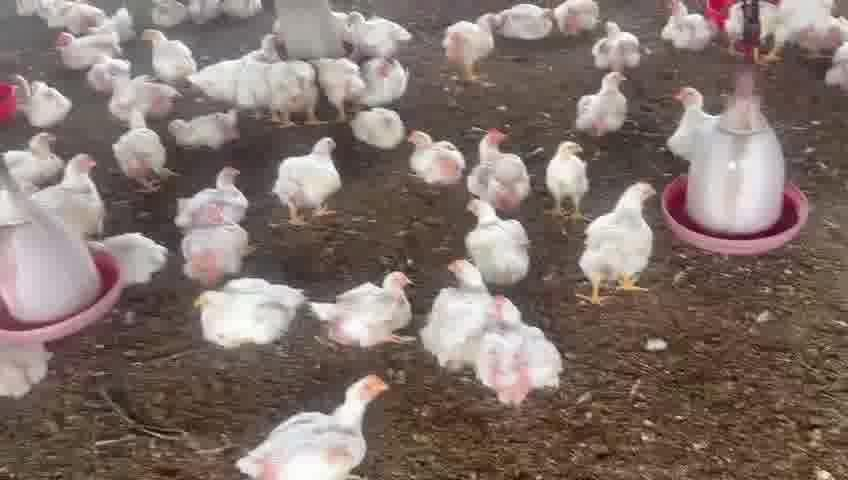AbNormal: (166, 105, 243, 147)
Normal: (233, 375, 386, 480), (466, 295, 561, 426), (582, 186, 678, 303), (308, 259, 420, 358), (404, 251, 491, 374), (188, 272, 306, 360), (461, 200, 535, 295), (270, 135, 344, 226), (179, 204, 253, 283), (166, 160, 245, 222), (540, 140, 595, 228), (112, 109, 175, 185), (570, 73, 635, 145), (264, 58, 325, 128), (589, 16, 648, 81), (445, 13, 500, 80), (406, 130, 464, 189), (138, 24, 195, 81), (352, 104, 415, 153), (19, 80, 79, 126), (51, 34, 120, 64)
